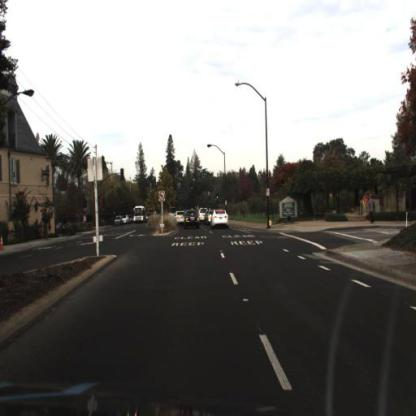car: (186, 213, 200, 231), (198, 205, 210, 226), (213, 212, 228, 227), (175, 212, 184, 226), (174, 211, 182, 223)
pedestrian: (369, 194, 377, 225)
truck: (133, 206, 147, 225)
